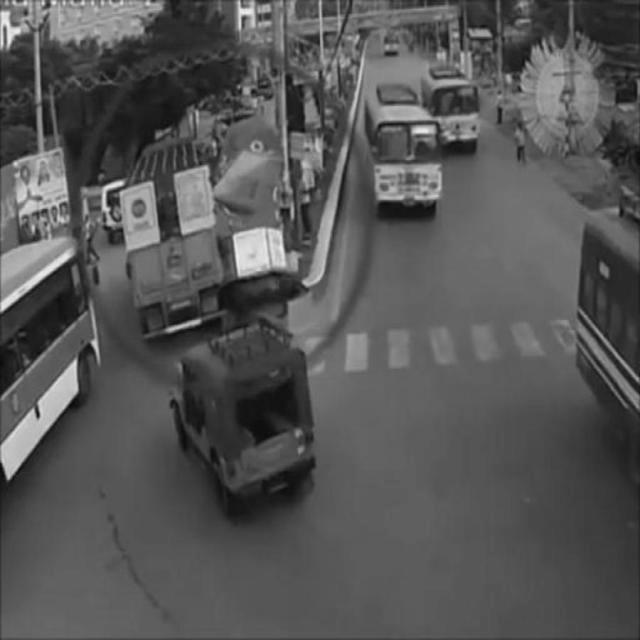accident: (118, 143, 316, 333)
person: (513, 122, 529, 169)
vehicle: (167, 339, 314, 513), (367, 100, 439, 220), (427, 76, 481, 150)
